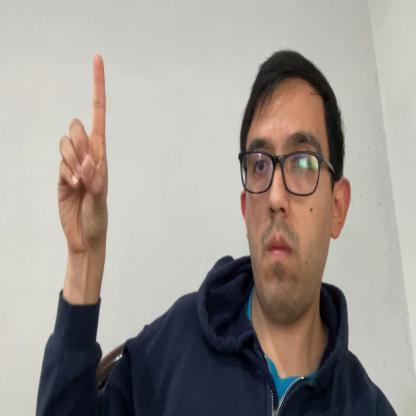D: (56, 54, 108, 254)
